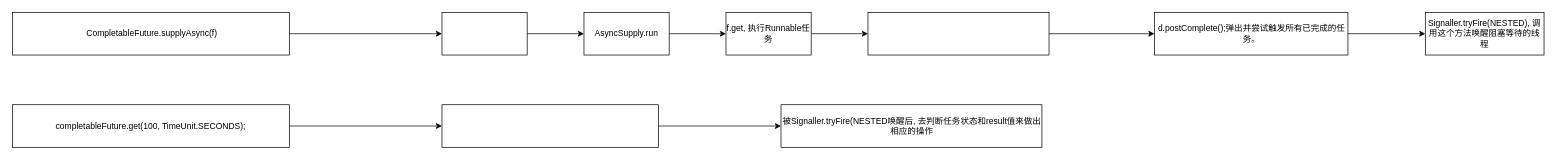
Image size: 1557x160. Some labels were removed from this diagram. The box of each missing label's shape, as (x1, y1, x2, y2) in pixels:
asyncSupplyStage: (441, 12, 527, 55)
d.completeValue(f.get()); 获取结果后设置result: (867, 12, 1049, 55)
获取需要等待的时间, 调用ForkJoinPool.managedBlock(q);即Signaller.block 进行休眠: (441, 104, 659, 147)
